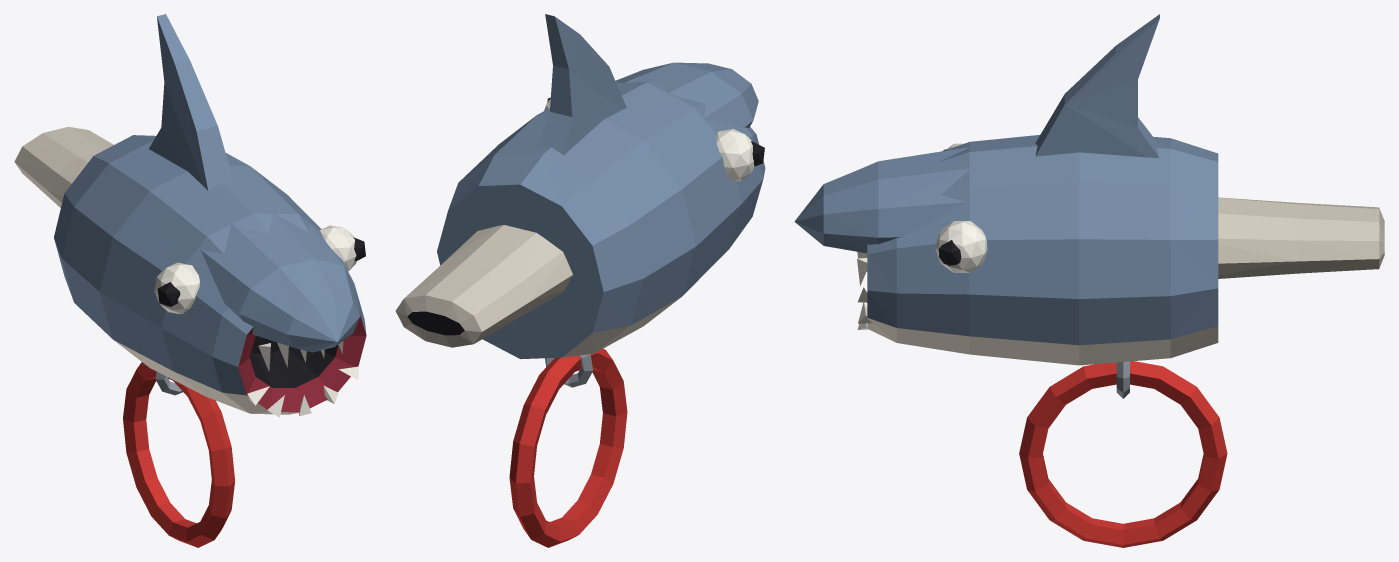
The model's file is SharkWhistle.obj.
3 renders of one model, left to right at view 1: azimuth 30°, elevation 25°; view 2: azimuth 150°, elevation 25°; view 3: azimuth 270°, elevation 25°, orthographic. The views are drawn at different scales.
Visible parts, largest first — view 1: SharkWhistle; view 2: SharkWhistle; view 3: SharkWhistle.
Part boxes in pixels (<box>): SharkWhistle: <box>14,14,366,547</box>; SharkWhistle: <box>395,14,765,547</box>; SharkWhistle: <box>794,14,1384,547</box>.
Bounding box in the file's own units: 0.0672 × 0.1605 × 0.1615.
